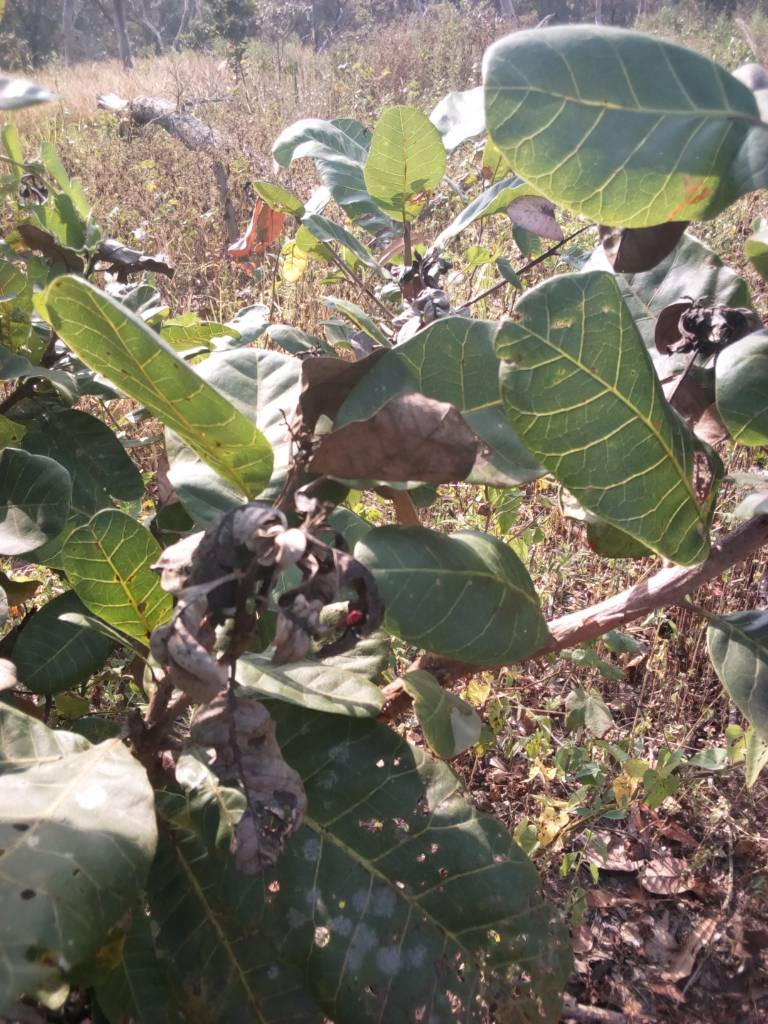Die-black: (182, 682, 344, 878), (300, 387, 484, 514), (139, 603, 239, 713), (652, 286, 761, 378), (223, 493, 311, 585), (386, 243, 466, 338), (91, 227, 191, 284), (486, 193, 570, 249)
